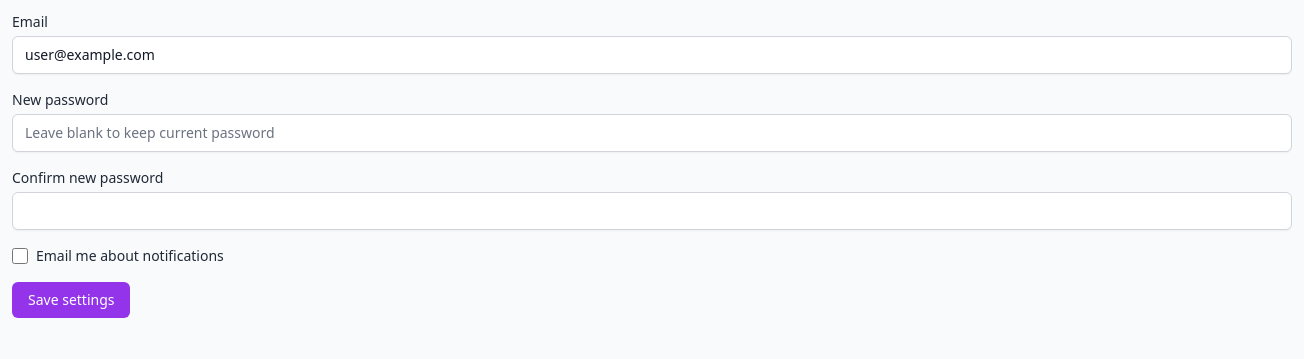
Test case: SettingsForm › shows a mismatch error when password and confirm password differ
The image size is (1304, 359).
Type "password123" into the password field labelled "New password" at (652, 133), box [12,114,1292,152]
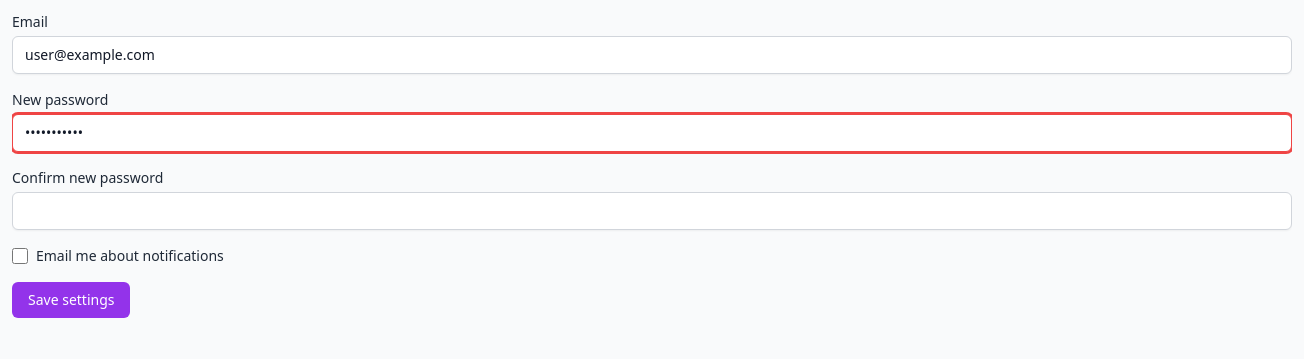
Type "different123" into the password field labelled "Confirm new password" at (652, 211), box [12,192,1292,230]
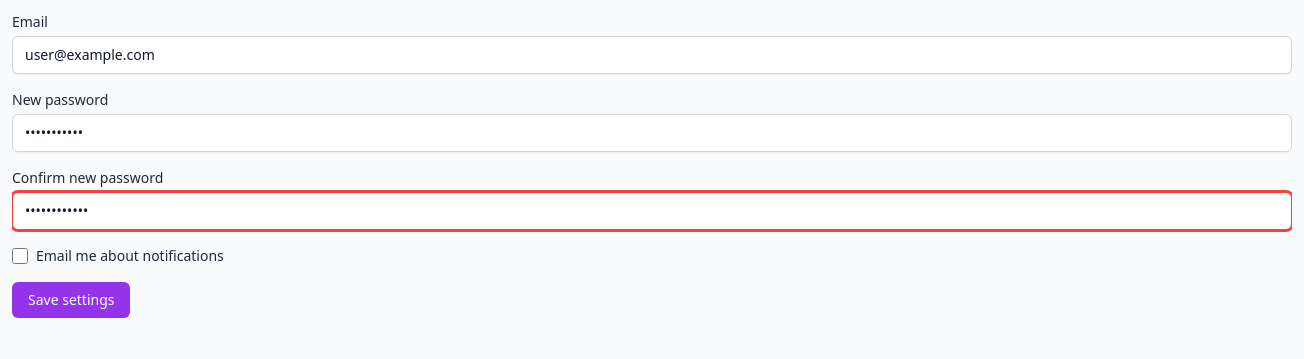
Click the button "Save settings" at (71, 300), box [12,282,130,318]
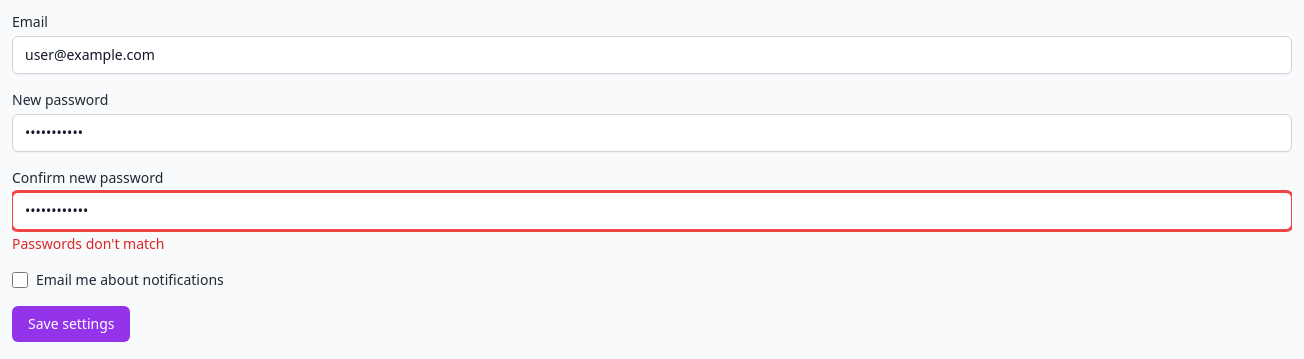
Now the text "Passwords don't match" is shown, box [12,234,164,253]
